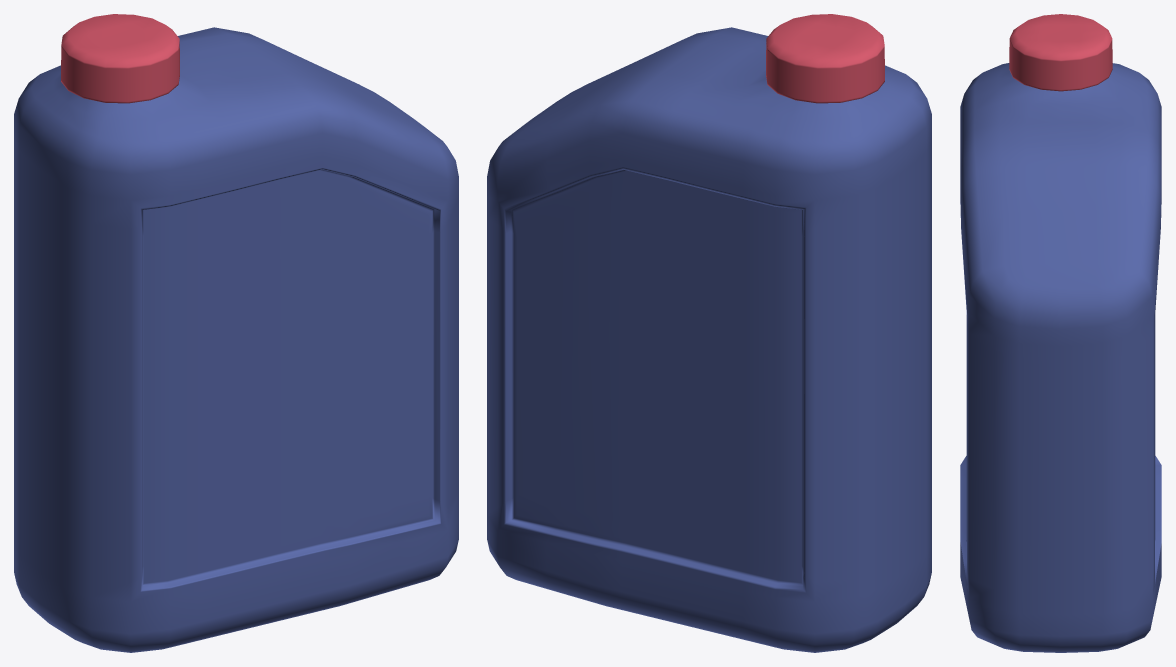
Rendered from OilCan.glb.
3 views of the same model, side by side, from view 1: azimuth 30°, elevation 25°; view 2: azimuth 150°, elevation 25°; view 3: azimuth 270°, elevation 25° (orthographic). The views are drawn at different scales.
Parts seen in each view (by area): view 1: SM_OilCan; view 2: SM_OilCan; view 3: SM_OilCan.
Part boxes in pixels (x1=…): SM_OilCan: x1=14, y1=14, x2=458, y2=652; SM_OilCan: x1=487, y1=14, x2=931, y2=652; SM_OilCan: x1=960, y1=14, x2=1161, y2=652.
Size of the model in its own units: 0.3171 by 0.4485 by 0.1638.
